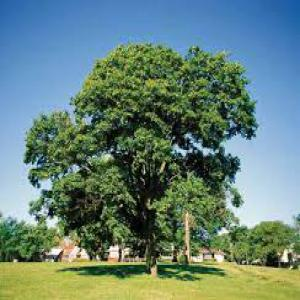Tree: (18, 38, 258, 272)
